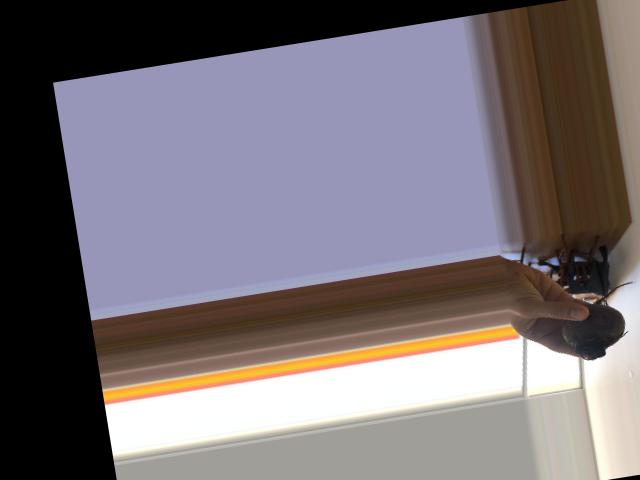beet: (556, 280, 640, 363)
